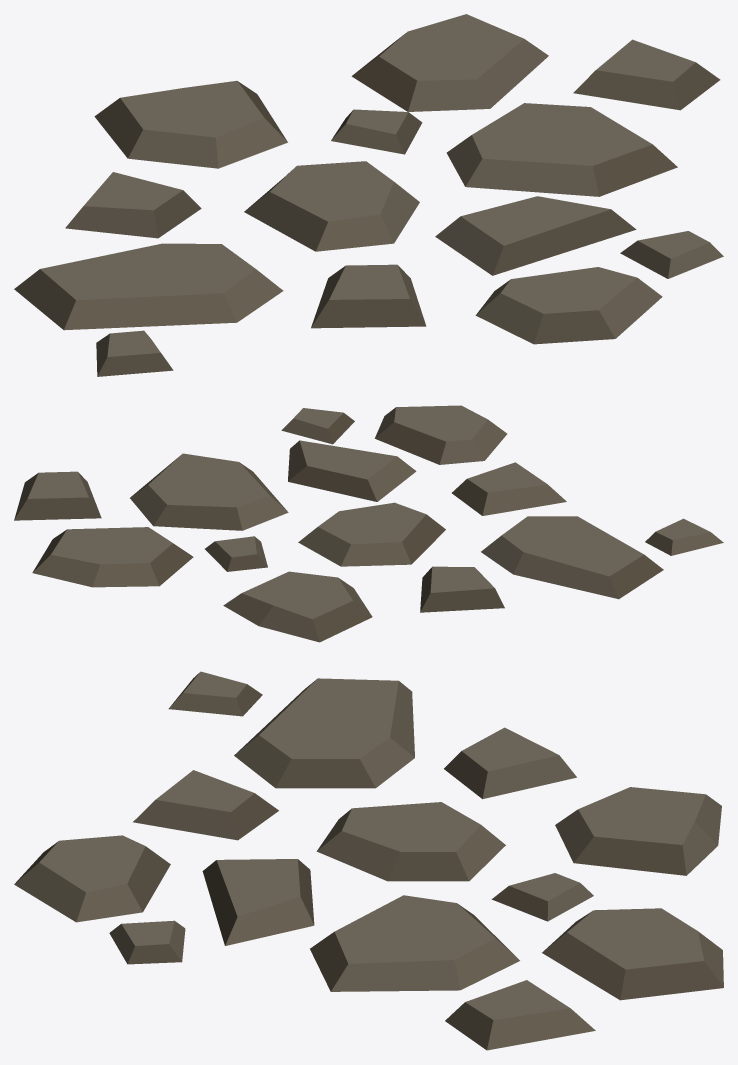
The model's file is SF_Env_Stones_01.FBX.
3 views of the same model, one above another, from view 1: azimuth 30°, elevation 25°; view 2: azimuth 150°, elevation 25°; view 3: azimuth 270°, elevation 25° (orthographic). The views are drawn at different scales.
Parts seen in each view (by area): view 1: SF_Env_Stones_01_Elements4, SF_Env_Stones_01_Elements6, SF_Env_Stones_01_Elements12, SF_Env_Stones_01_Elements13, SF_Env_Stones_01_Elements1, SF_Env_Stones_01_Elements8, SF_Env_Stones_01_Elements2, SF_Env_Stones_01_Elements7, SF_Env_Stones_01_Elements5, SF_Env_Stones_01_Elements3, SF_Env_Stones_01_Elements9, SF_Env_Stones_01_Elements11 (+1 smaller); view 2: SF_Env_Stones_01_Elements4, SF_Env_Stones_01_Elements6, SF_Env_Stones_01_Elements12, SF_Env_Stones_01_Elements13, SF_Env_Stones_01_Elements1, SF_Env_Stones_01_Elements8, SF_Env_Stones_01_Elements2, SF_Env_Stones_01_Elements5, SF_Env_Stones_01_Elements7, SF_Env_Stones_01_Elements3, SF_Env_Stones_01_Elements9, SF_Env_Stones_01_Elements10 (+1 smaller); view 3: SF_Env_Stones_01_Elements4, SF_Env_Stones_01_Elements6, SF_Env_Stones_01_Elements12, SF_Env_Stones_01_Elements13, SF_Env_Stones_01_Elements1, SF_Env_Stones_01_Elements8, SF_Env_Stones_01_Elements2, SF_Env_Stones_01_Elements7, SF_Env_Stones_01_Elements5, SF_Env_Stones_01_Elements3, SF_Env_Stones_01_Elements11, SF_Env_Stones_01_Elements9 (+1 smaller).
Boxes of the visible parts, box(x1,y1,x2,y2) form: SF_Env_Stones_01_Elements4: box(14, 243, 283, 330); SF_Env_Stones_01_Elements6: box(446, 103, 677, 196); SF_Env_Stones_01_Elements12: box(351, 14, 548, 111); SF_Env_Stones_01_Elements13: box(94, 80, 287, 168); SF_Env_Stones_01_Elements1: box(244, 161, 419, 251); SF_Env_Stones_01_Elements8: box(475, 267, 662, 344); SF_Env_Stones_01_Elements2: box(435, 196, 636, 275); SF_Env_Stones_01_Elements7: box(573, 39, 720, 110); SF_Env_Stones_01_Elements5: box(311, 264, 426, 328); SF_Env_Stones_01_Elements3: box(65, 172, 201, 238); SF_Env_Stones_01_Elements9: box(620, 231, 723, 278); SF_Env_Stones_01_Elements11: box(331, 109, 422, 154); SF_Env_Stones_01_Elements4: box(481, 516, 663, 599); SF_Env_Stones_01_Elements6: box(130, 453, 288, 530); SF_Env_Stones_01_Elements12: box(32, 527, 193, 587); SF_Env_Stones_01_Elements13: box(223, 571, 372, 642); SF_Env_Stones_01_Elements1: box(298, 502, 445, 566); SF_Env_Stones_01_Elements8: box(375, 405, 507, 464); SF_Env_Stones_01_Elements2: box(288, 440, 416, 501); SF_Env_Stones_01_Elements5: box(452, 462, 566, 515); SF_Env_Stones_01_Elements7: box(14, 471, 101, 520); SF_Env_Stones_01_Elements3: box(420, 566, 504, 612); SF_Env_Stones_01_Elements9: box(281, 408, 354, 444); SF_Env_Stones_01_Elements10: box(645, 518, 723, 555); SF_Env_Stones_01_Elements4: box(234, 678, 414, 788); SF_Env_Stones_01_Elements6: box(310, 895, 519, 991); SF_Env_Stones_01_Elements12: box(542, 908, 723, 1000); SF_Env_Stones_01_Elements13: box(555, 787, 721, 875); SF_Env_Stones_01_Elements1: box(316, 802, 505, 881); SF_Env_Stones_01_Elements8: box(14, 835, 170, 922); SF_Env_Stones_01_Elements2: box(202, 859, 314, 945); SF_Env_Stones_01_Elements7: box(445, 980, 595, 1050); SF_Env_Stones_01_Elements5: box(133, 770, 278, 840); SF_Env_Stones_01_Elements3: box(444, 727, 576, 799); SF_Env_Stones_01_Elements11: box(491, 873, 593, 921); SF_Env_Stones_01_Elements9: box(109, 920, 185, 964).
Bounding box in the file's own units: 12.63 × 0.3187 × 10.19.
